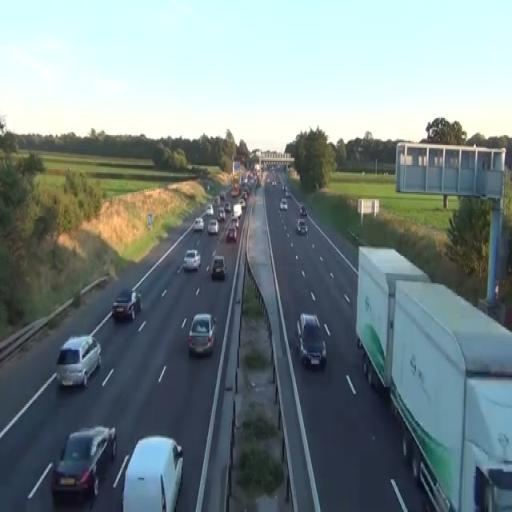Car: (51, 425, 118, 504), (122, 435, 184, 512), (56, 333, 102, 389), (294, 312, 328, 369), (186, 313, 218, 357), (112, 286, 142, 321), (211, 255, 227, 281), (183, 250, 201, 272), (226, 222, 238, 242), (208, 218, 218, 236), (194, 218, 204, 232)
Truck: (354, 247, 512, 507), (356, 245, 430, 395)
